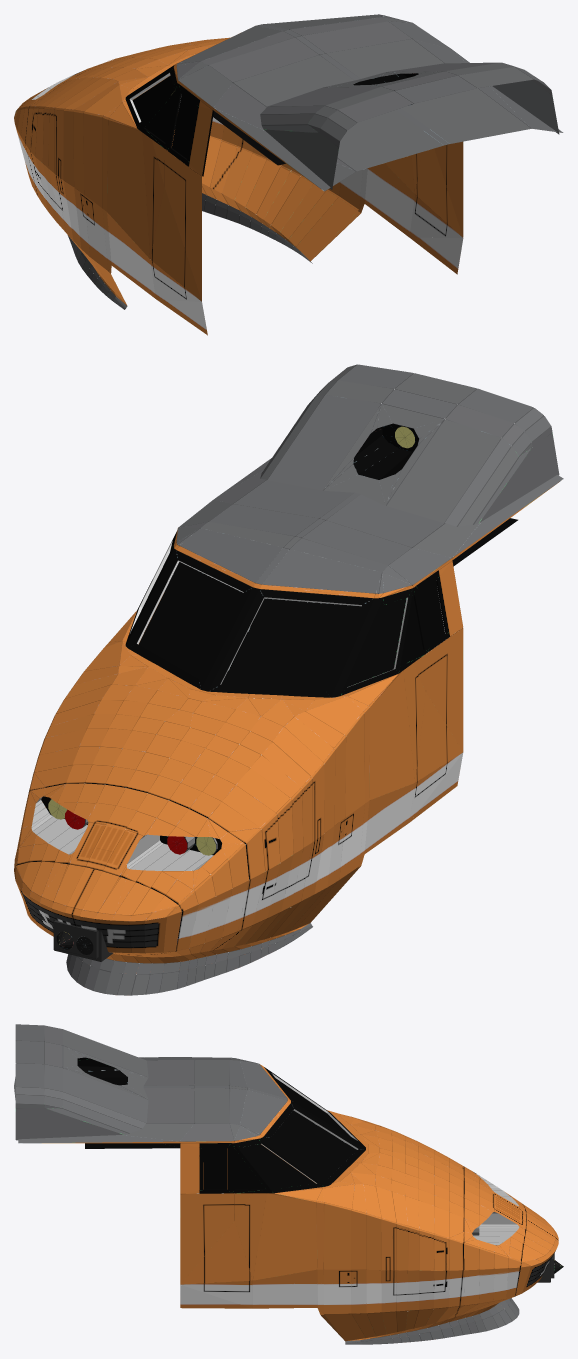
The model's file is tgv_pse_orange_sncf_obj.obj.
3 views of the same model, one above another, from view 1: azimuth 30°, elevation 25°; view 2: azimuth 150°, elevation 25°; view 3: azimuth 270°, elevation 25° (orthographic). The views are drawn at different scales.
Parts seen in each view (by area): view 1: car1_exterior, car1_glass, car1_interior; view 2: car1_exterior, car1_glass, car1_coupler_closed, car1_coupler_open, car1_light_yellow; view 3: car1_exterior, car1_glass, car1_coupler_closed, car1_interior.
Boxes of the visible parts, box(x1,y1,x2,y2) form: car1_exterior: box(14, 14, 563, 335); car1_glass: box(132, 75, 196, 158); car1_interior: box(143, 29, 289, 176); car1_exterior: box(14, 364, 563, 995); car1_glass: box(138, 562, 444, 689); car1_coupler_closed: box(14, 861, 181, 954); car1_coupler_open: box(41, 861, 164, 961); car1_light_yellow: box(48, 426, 414, 855); car1_exterior: box(14, 1024, 526, 1344); car1_glass: box(203, 1078, 357, 1189); car1_coupler_closed: box(515, 1204, 558, 1295); car1_interior: box(85, 1143, 180, 1148).
Size of the model in its own units: 2.92 by 3.76 by 7.21.
Materials: 1 (1 with a texture image).
